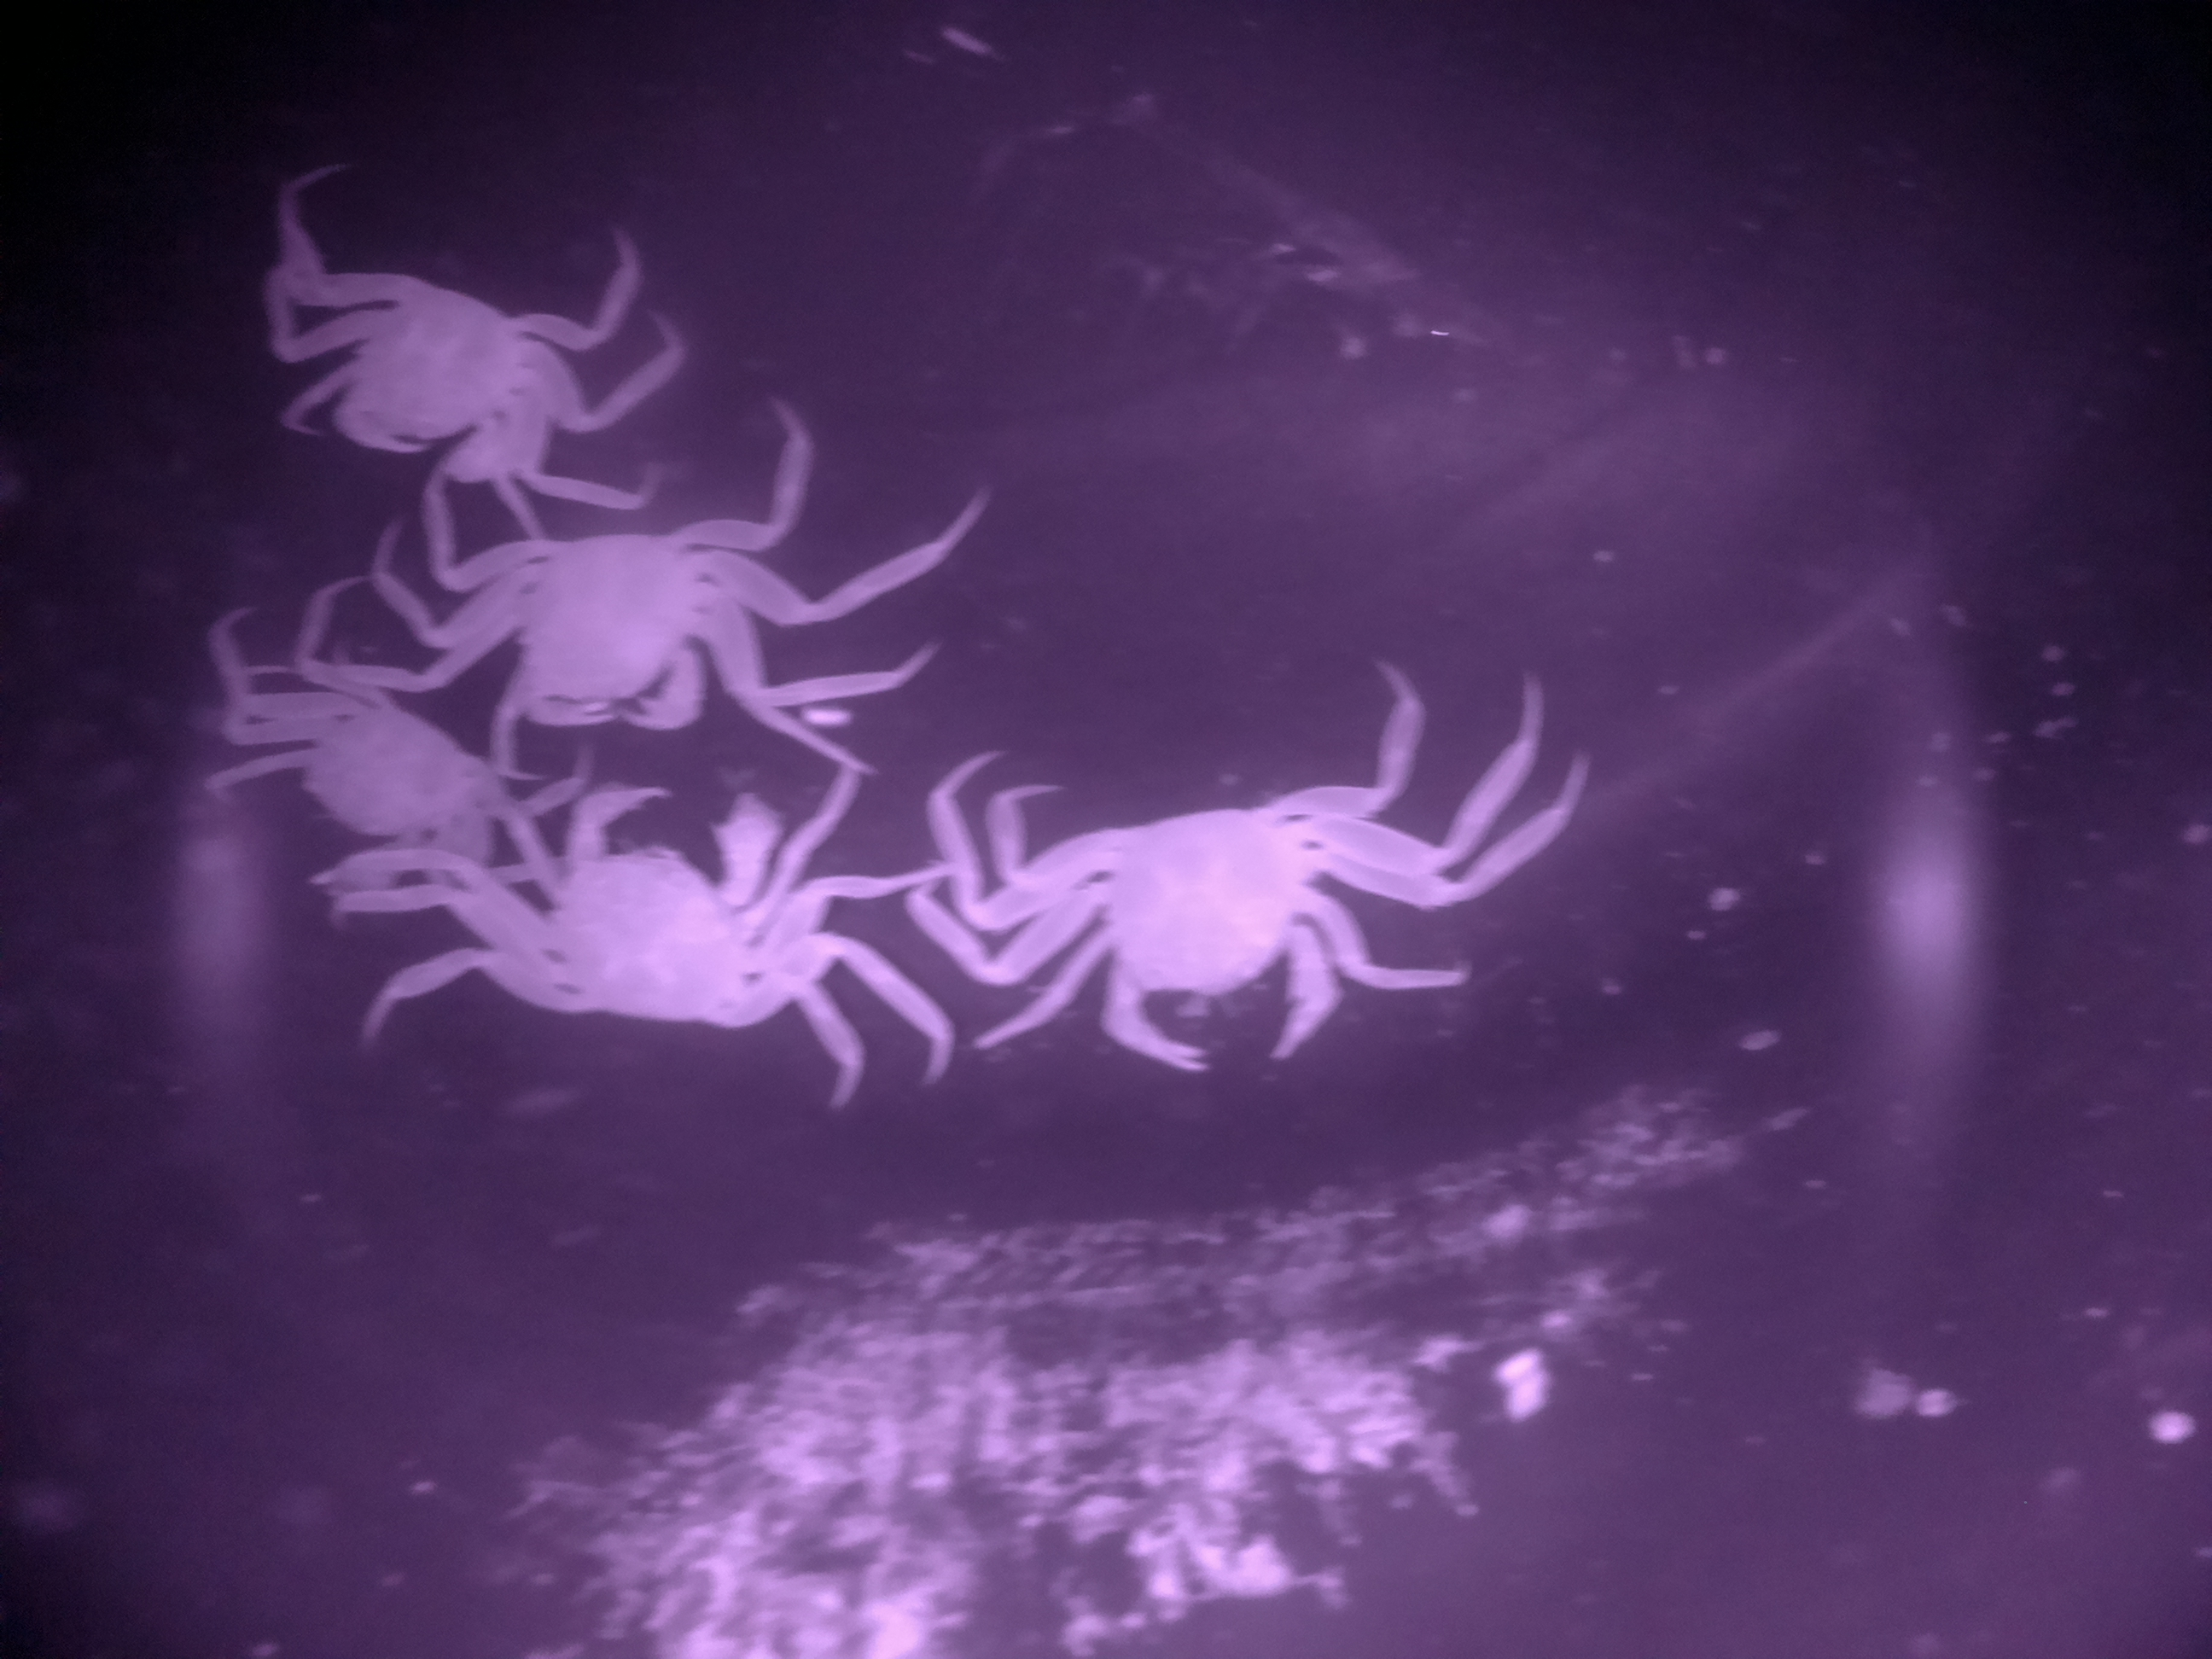Crab: (989, 753, 1413, 1103), (291, 207, 632, 537), (481, 762, 840, 1047), (432, 493, 765, 755)
